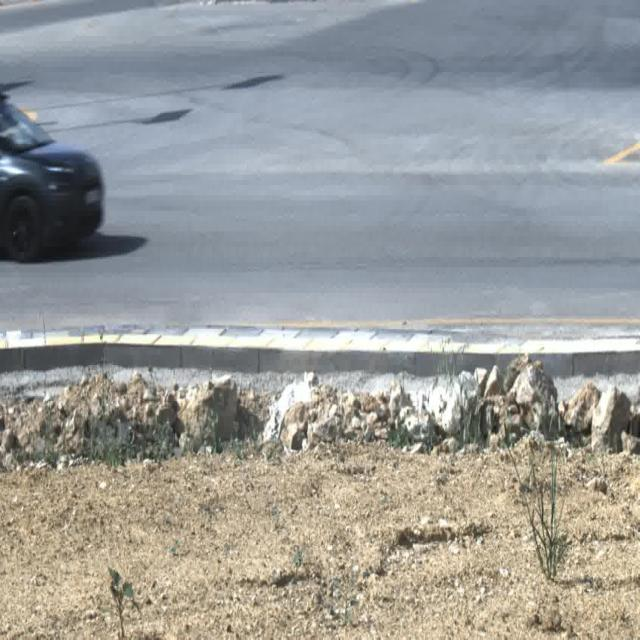Car: (0, 94, 106, 265)
